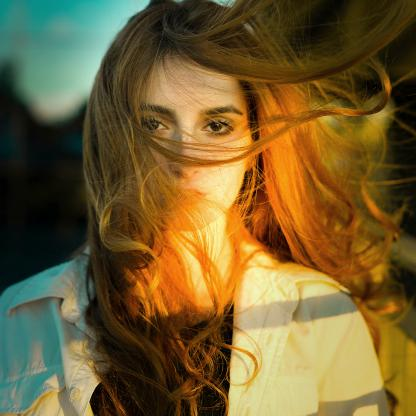Eye: (198, 115, 235, 140), (136, 115, 171, 139)
Mouth: (166, 183, 210, 207)
Nose: (168, 125, 199, 177)
